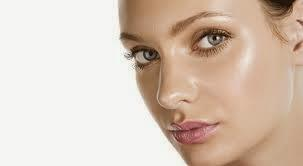Oily-Skin: (238, 25, 257, 90), (160, 90, 193, 108), (185, 75, 218, 91), (171, 44, 189, 59), (209, 0, 224, 12)
